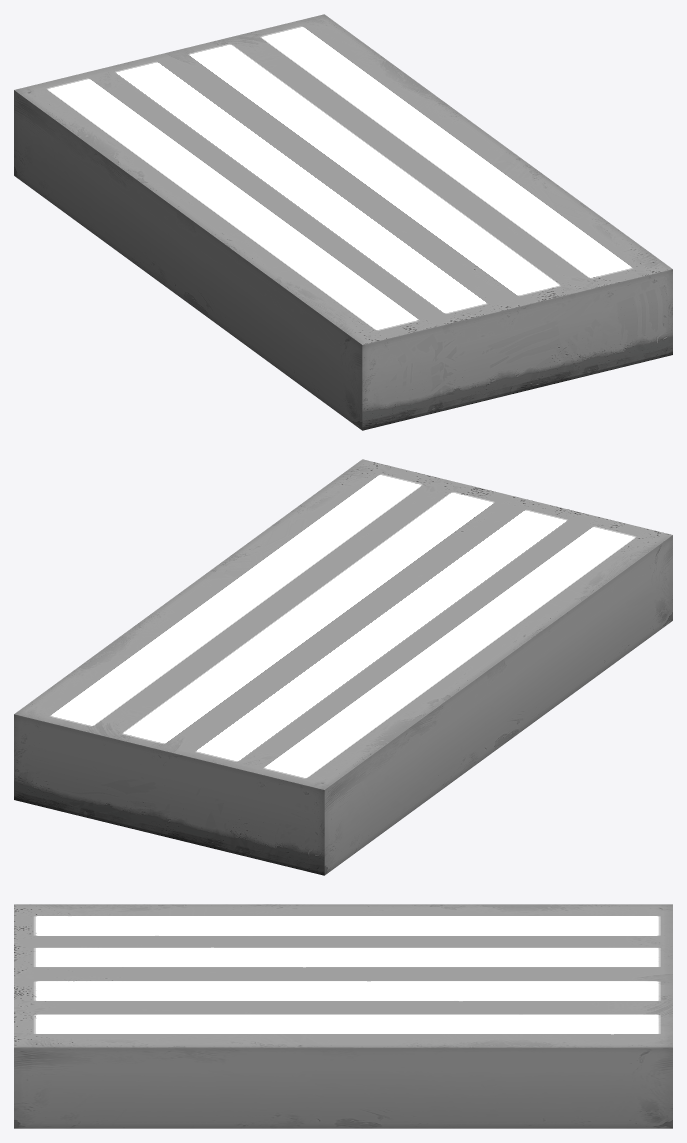
File: 9-5_Lights.fbx
The picture shows the model from 3 angles, top to bottom: view 1: azimuth 30°, elevation 25°; view 2: azimuth 150°, elevation 25°; view 3: azimuth 270°, elevation 25°; orthographic projection. The views are drawn at different scales.
Parts seen in each view (by area): view 1: Plane.004; view 2: Plane.004; view 3: Plane.004.
Boxes of the visible parts, x1,y1,x2,y2 form: Plane.004: (14, 14, 672, 430); Plane.004: (14, 459, 672, 875); Plane.004: (14, 904, 672, 1128).
Size of the model in its own units: 200 by 52.75 by 389.
1 material, 1 textured.
